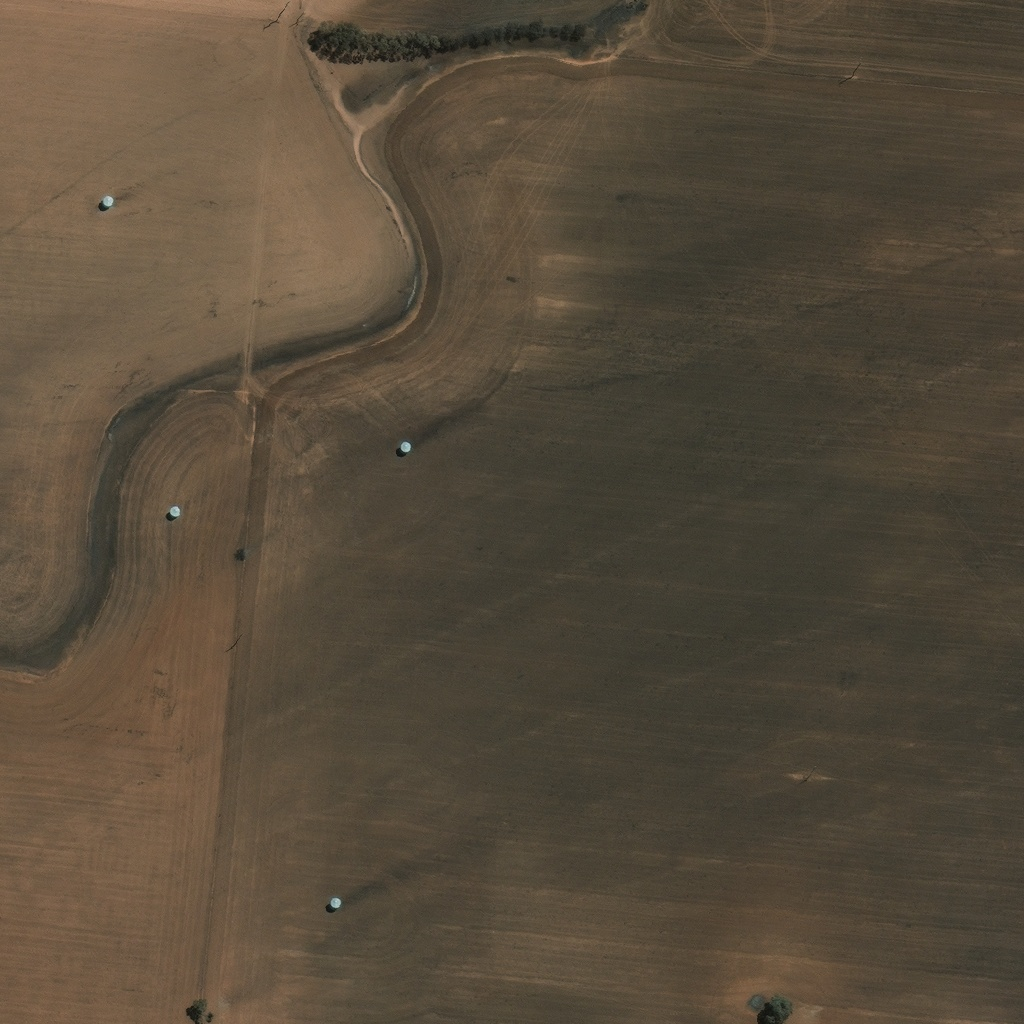4 un-classified: (173, 487, 185, 496)
